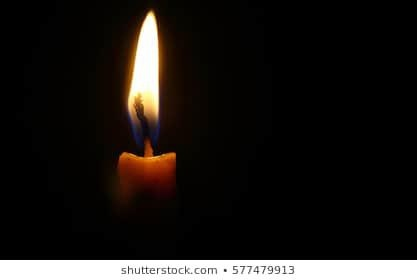fire: (127, 6, 164, 138)
